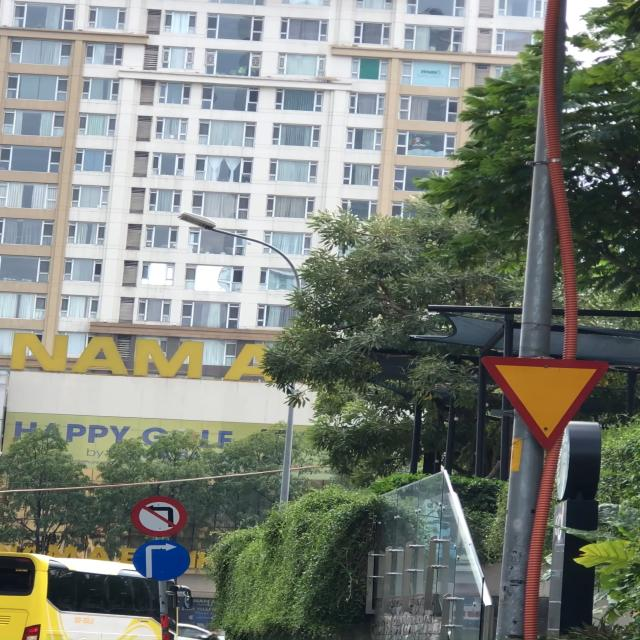Bien bao cam re trai: (130, 494, 193, 539)
Bien bao giao nhau voi duong uu tien: (474, 350, 606, 455)
Bien bao huong di phai theo: (130, 538, 195, 584)
